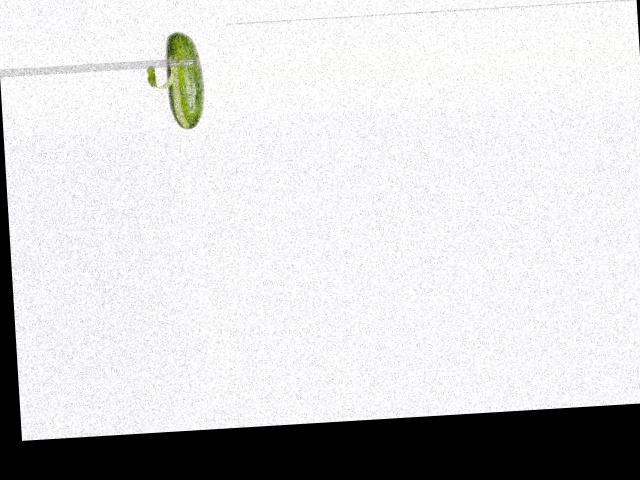cucumber: (162, 30, 205, 130)
